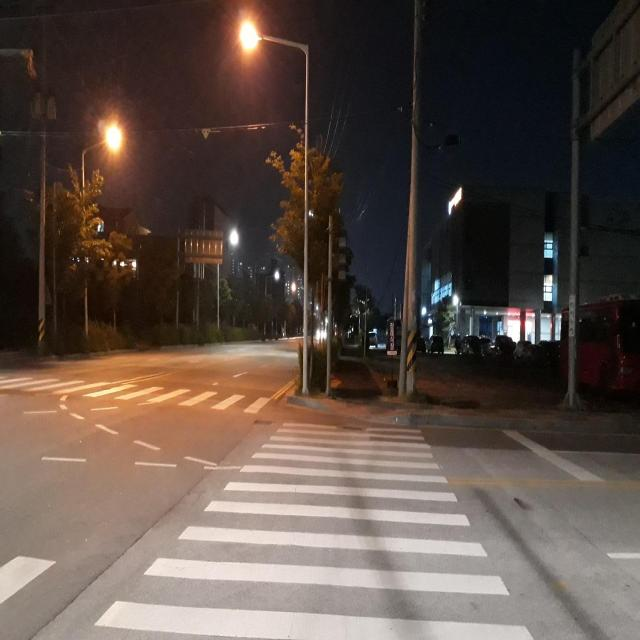횡단보도: (92, 418, 537, 640), (0, 373, 270, 415)
